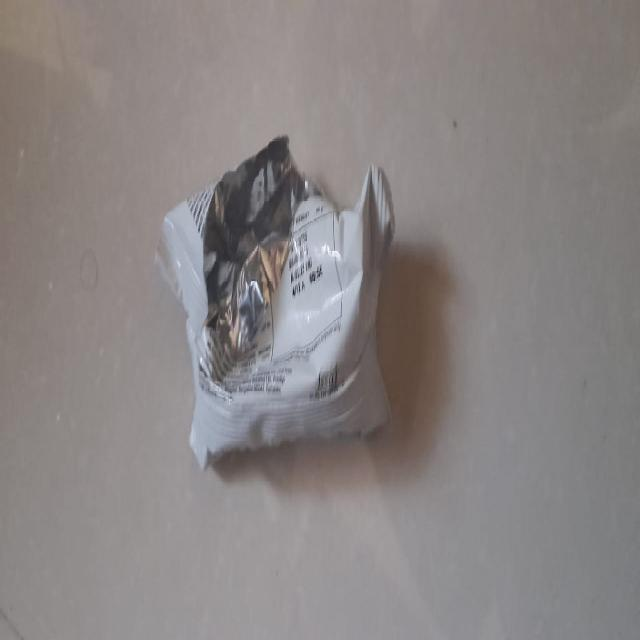Plastic - Recyclable: (154, 131, 396, 472)
